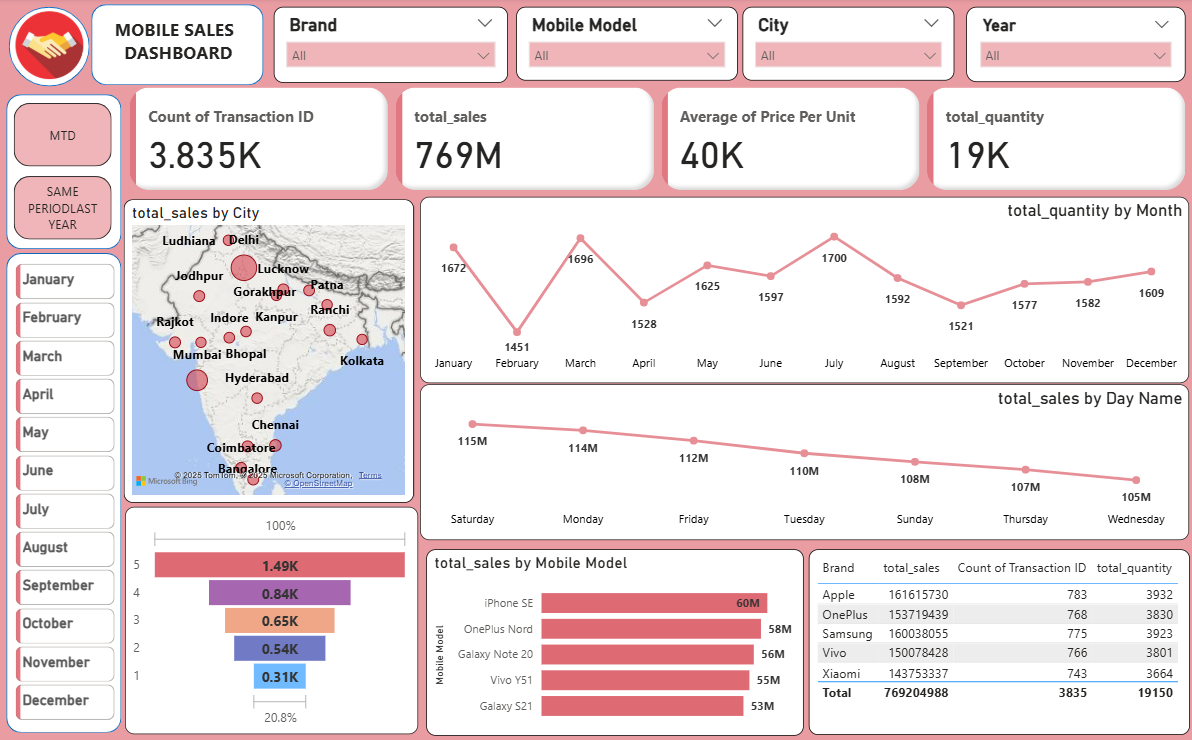

This screenshot's page, from the dashboard's own definition file:
{"tool":"powerbi","page":{"name":"SALES DESHBOARD","canvas":[1280,800],"ordinal":0},"visuals":[{"type":"shape","box":[10.1,8.8,86.7,85.5],"z":0},{"type":"image","box":[10.1,10.1,88,82.9],"z":1000},{"type":"shape","box":[6.9,273.1,123.5,514.6],"z":2000},{"type":"shape","box":[6.9,102.9,123.5,166],"z":3000},{"type":"advancedSlicerVisual","fields":{"Values":["Query1.costom_date.Variation.Date Hierarchy.Month"]},"box":[12.3,279.9,116.6,506.3],"z":4000},{"type":"shape","box":[98,6.3,184.7,86.7],"z":5000},{"type":"cardVisual","fields":{"Data":["CountNonNull(Mobile Sales Data.Transaction ID)","Mobile Sales Data.total_sales","Avg(Mobile Sales Data.Price Per Unit)","Mobile Sales Data.total_quantity"]},"box":[134.5,71.4,1144.4,160.5],"z":6000},{"type":"slicer","fields":{"Values":["Mobile Sales Data.Mobile Model"]},"box":[554.2,8.8,237.5,79.2],"z":7000},{"type":"slicer","fields":{"Values":["Mobile Sales Data.City"]},"box":[796.8,10.1,227.5,79.2],"z":8000},{"type":"slicer","fields":{"Values":["Query1.costom_date.Variation.Date Hierarchy.Year"]},"box":[1036.8,8.8,235,80.4],"z":9000},{"type":"slicer","fields":{"Values":["Mobile Sales Data.Brand"]},"box":[294.1,8.8,251.3,81.7],"z":10000},{"type":"textbox","box":[118.1,16.3,152.1,61.6],"z":11000},{"type":"map","fields":{"Category":["Mobile Sales Data.City"],"Size":["Mobile Sales Data.total_sales"]},"box":[132.7,215.8,311,325.7],"z":12000},{"type":"lineChart","fields":{"Category":["Query1.costom_date.Variation.Date Hierarchy.Month"],"Y":["Mobile Sales Data.total_quantity"]},"box":[450.1,212.7,824.7,200.3],"z":13000},{"type":"funnel","fields":{"Category":["Mobile Sales Data.Customer Ratings"],"Y":["CountNonNull(Mobile Sales Data.Transaction ID)"]},"box":[134.5,546.1,314.2,244.3],"z":14000},{"type":"clusteredBarChart","fields":{"Category":["Mobile Sales Data.Mobile Model"],"Y":["Mobile Sales Data.total_sales"]},"box":[457.1,591.2,404.8,199.7],"z":15000},{"type":"tableEx","fields":{"Values":["Mobile Sales Data.Brand","Mobile Sales Data.total_sales","CountNonNull(Mobile Sales Data.Transaction ID)","Mobile Sales Data.total_quantity"]},"box":[867.2,591.4,408.9,199],"z":16000},{"type":"lineChart","fields":{"Category":["Query1.Day Name"],"Y":["Mobile Sales Data.total_sales"]},"box":[450.1,414.4,824.7,167.4],"z":17000},{"type":"pageNavigator","box":[14.7,112.6,105.9,147.5],"z":18000}]}

Visuals, with their boxes in screenshot pixels (x1, y1, x2, y2), scaled from the page's 1280x800 canvas onto the 1192x740 screenshot:
shape: bbox(9, 8, 90, 87)
image: bbox(9, 9, 91, 86)
shape: bbox(6, 253, 121, 729)
shape: bbox(6, 95, 121, 249)
advancedSlicerVisual - Query1.costom_date.Variation.Date Hierarchy.Month: bbox(11, 259, 120, 727)
shape: bbox(91, 6, 263, 86)
cardVisual - CountNonNull(Mobile Sales Data.Transaction ID) x Mobile Sales Data.total_sales: bbox(125, 66, 1191, 215)
slicer - Mobile Sales Data.Mobile Model: bbox(516, 8, 737, 81)
slicer - Mobile Sales Data.City: bbox(742, 9, 954, 83)
slicer - Query1.costom_date.Variation.Date Hierarchy.Year: bbox(966, 8, 1184, 83)
slicer - Mobile Sales Data.Brand: bbox(274, 8, 508, 84)
textbox: bbox(110, 15, 252, 72)
map - Mobile Sales Data.City x Mobile Sales Data.total_sales: bbox(124, 200, 413, 501)
lineChart - Query1.costom_date.Variation.Date Hierarchy.Month x Mobile Sales Data.total_quantity: bbox(419, 197, 1187, 382)
funnel - Mobile Sales Data.Customer Ratings x CountNonNull(Mobile Sales Data.Transaction ID): bbox(125, 505, 418, 731)
clusteredBarChart - Mobile Sales Data.Mobile Model x Mobile Sales Data.total_sales: bbox(426, 547, 803, 732)
tableEx - Mobile Sales Data.Brand x Mobile Sales Data.total_sales: bbox(808, 547, 1188, 731)
lineChart - Query1.Day Name x Mobile Sales Data.total_sales: bbox(419, 383, 1187, 538)
pageNavigator: bbox(14, 104, 112, 241)
